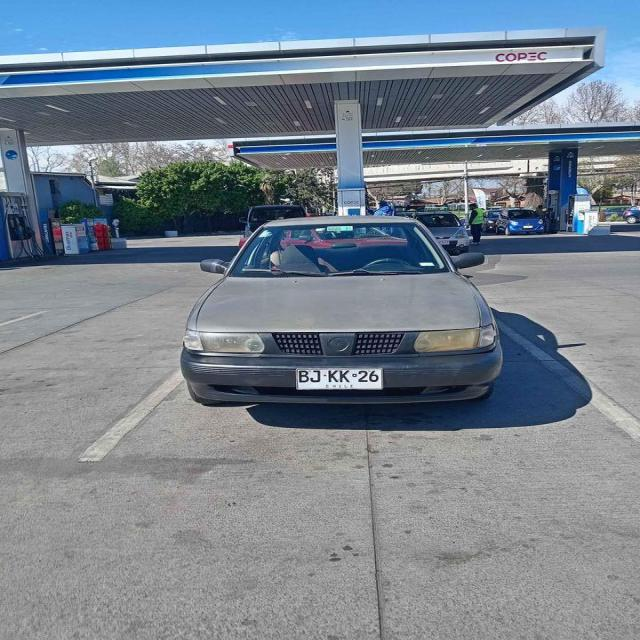patente: (294, 367, 383, 390)
